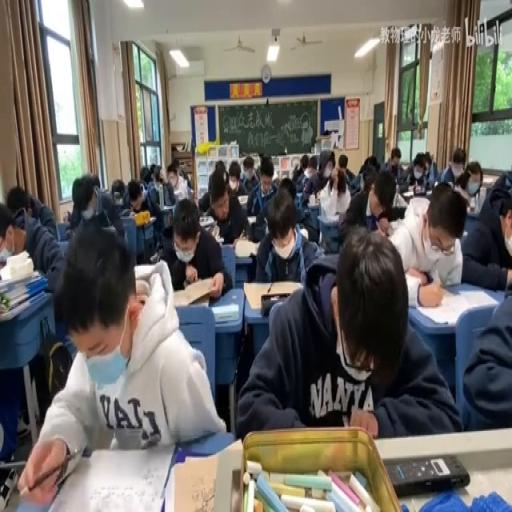calculator: (39, 442, 173, 511), (413, 285, 494, 327), (169, 452, 221, 512), (171, 274, 217, 306), (0, 289, 45, 320), (0, 266, 39, 292), (404, 273, 422, 306), (134, 262, 160, 283), (212, 302, 238, 322), (234, 238, 259, 258), (318, 209, 340, 225), (464, 204, 482, 218), (198, 215, 216, 226), (0, 250, 11, 266), (210, 222, 220, 239), (481, 175, 496, 186), (402, 189, 415, 201), (142, 214, 156, 224), (118, 206, 132, 216), (298, 226, 308, 240), (162, 202, 174, 213), (307, 196, 320, 206), (246, 214, 258, 224), (237, 195, 249, 205), (216, 236, 223, 243)
paper: (237, 228, 452, 442), (0, 188, 64, 452), (387, 182, 464, 297), (459, 171, 512, 290), (252, 189, 318, 282), (198, 164, 249, 248), (340, 165, 397, 239), (67, 172, 125, 242), (145, 165, 174, 237), (0, 199, 23, 260), (438, 145, 468, 188), (406, 151, 432, 193), (314, 151, 339, 192), (239, 154, 259, 194), (382, 145, 403, 181), (464, 166, 482, 196), (290, 154, 306, 186), (160, 226, 174, 260), (278, 176, 296, 200), (176, 161, 190, 189), (259, 161, 274, 182), (138, 165, 152, 186), (227, 160, 240, 180), (427, 156, 437, 182), (306, 155, 318, 176), (128, 186, 141, 205), (90, 172, 101, 192), (397, 176, 409, 194), (368, 154, 379, 172), (334, 176, 345, 194), (302, 175, 312, 192), (338, 154, 347, 172), (363, 176, 373, 192), (215, 160, 226, 174), (157, 168, 166, 183), (149, 162, 157, 176), (422, 156, 430, 168)
person: (384, 454, 470, 496), (260, 292, 290, 314), (240, 226, 246, 240)
